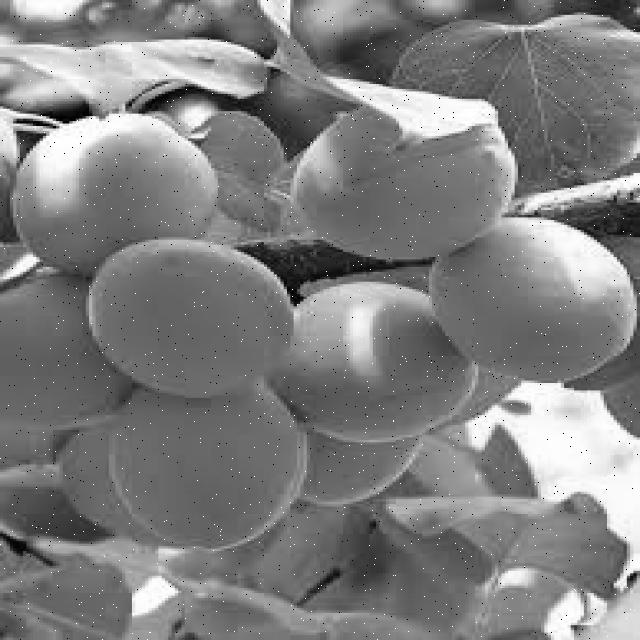kayisi: (12, 98, 594, 531)
kayisi_yapragi: (16, 10, 640, 220)
